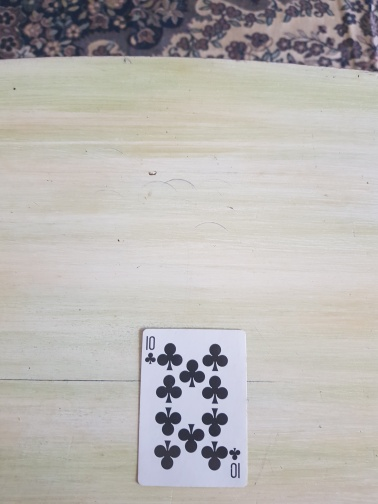ten: (135, 327, 250, 488)
